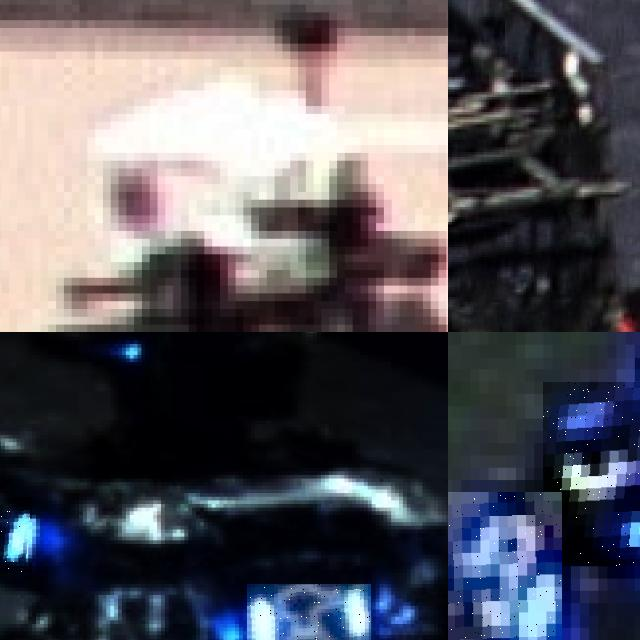B3: (543, 381, 640, 566), (448, 492, 562, 640)
Bs: (246, 584, 371, 640), (0, 496, 32, 573)
